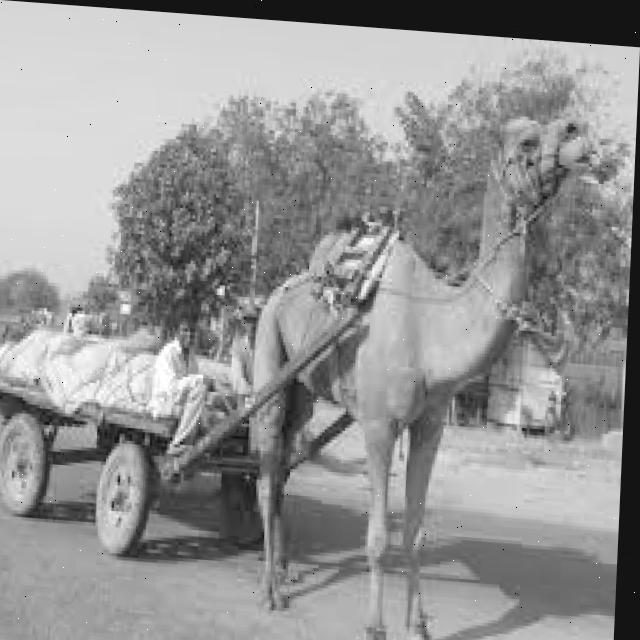Camel: (234, 91, 592, 640)
